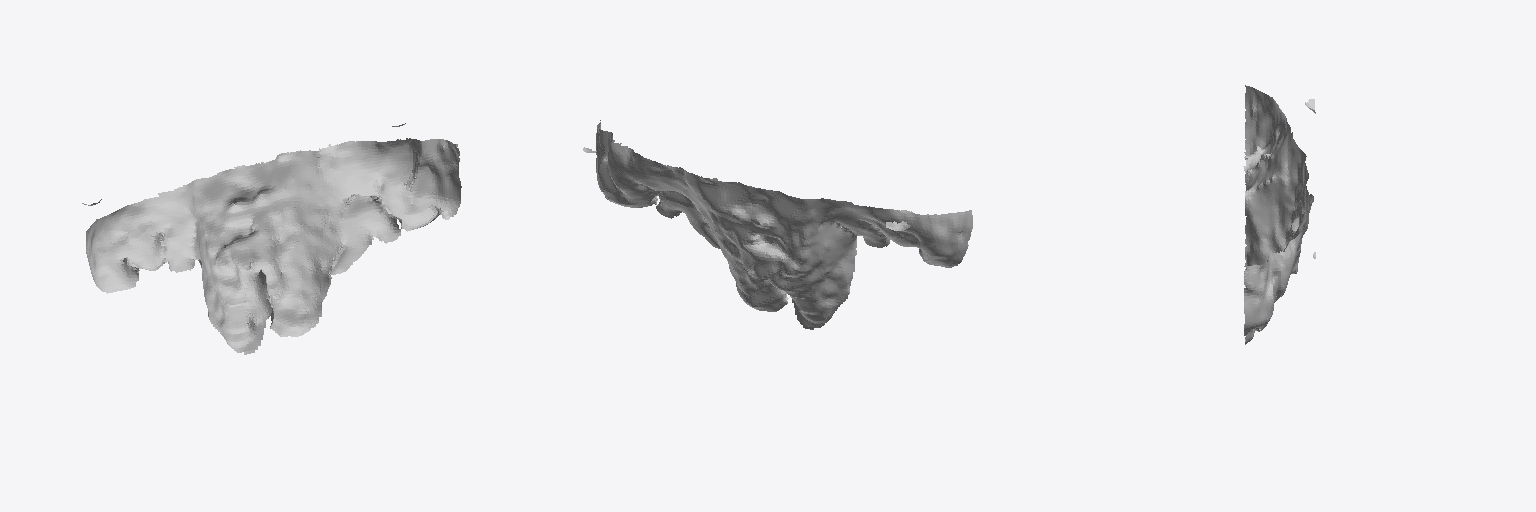
Rendered from cortex_3_0.obj.
3 renders of one model, left to right at view 1: azimuth 30°, elevation 25°; view 2: azimuth 150°, elevation 25°; view 3: azimuth 270°, elevation 25°, orthographic.
Parts seen in each view (by area): view 1: Cortex_3_0_Mehrdad_SagT1_Cortex_v1_No_Smooth_OBJ.000_Mehrdad_Sa; view 2: Cortex_3_0_Mehrdad_SagT1_Cortex_v1_No_Smooth_OBJ.000_Mehrdad_Sa; view 3: Cortex_3_0_Mehrdad_SagT1_Cortex_v1_No_Smooth_OBJ.000_Mehrdad_Sa.
Part boxes in pixels (left/top/right/bottom): Cortex_3_0_Mehrdad_SagT1_Cortex_v1_No_Smooth_OBJ.000_Mehrdad_Sa: left=82, top=123, right=461, bottom=354; Cortex_3_0_Mehrdad_SagT1_Cortex_v1_No_Smooth_OBJ.000_Mehrdad_Sa: left=583, top=120, right=972, bottom=329; Cortex_3_0_Mehrdad_SagT1_Cortex_v1_No_Smooth_OBJ.000_Mehrdad_Sa: left=1243, top=85, right=1315, bottom=344.
Bounding box in the file's own units: 97.26 × 39.73 × 16.44.